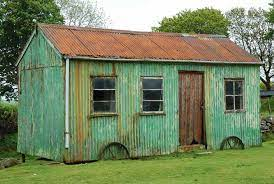Tin-shade House: (14, 19, 264, 155)
